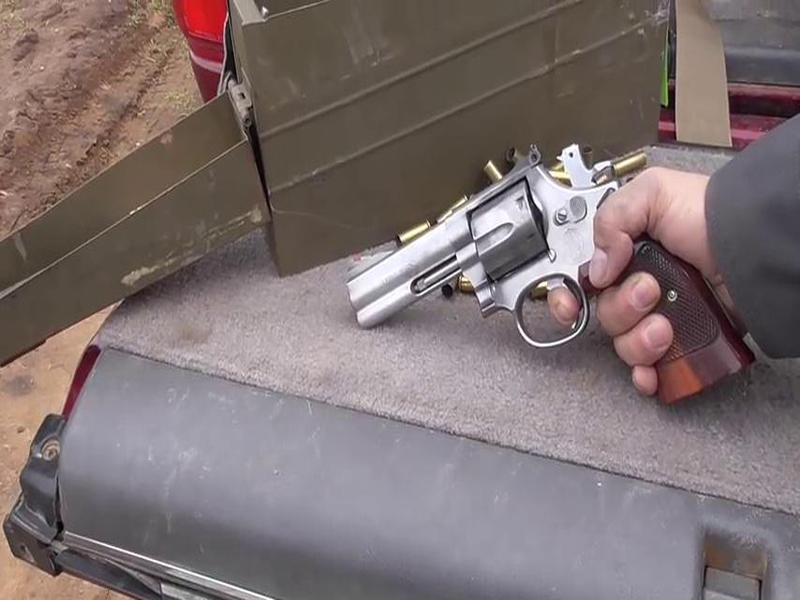Revolver: (277, 125, 757, 434)
